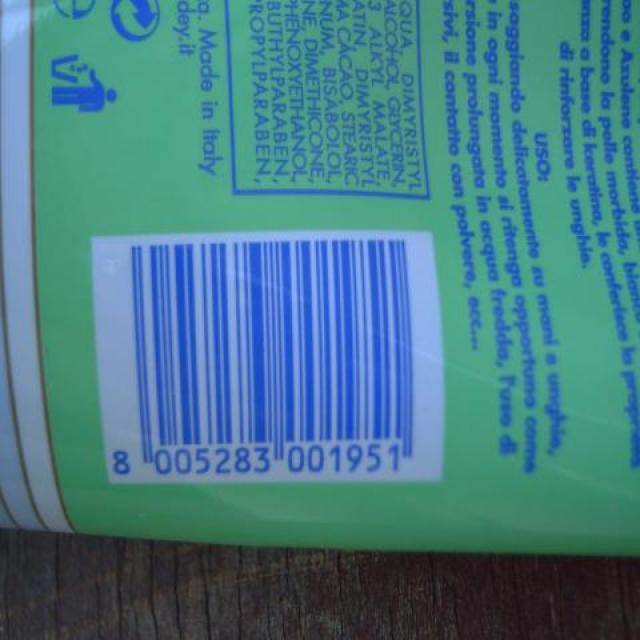Barcode: (87, 224, 449, 489)
